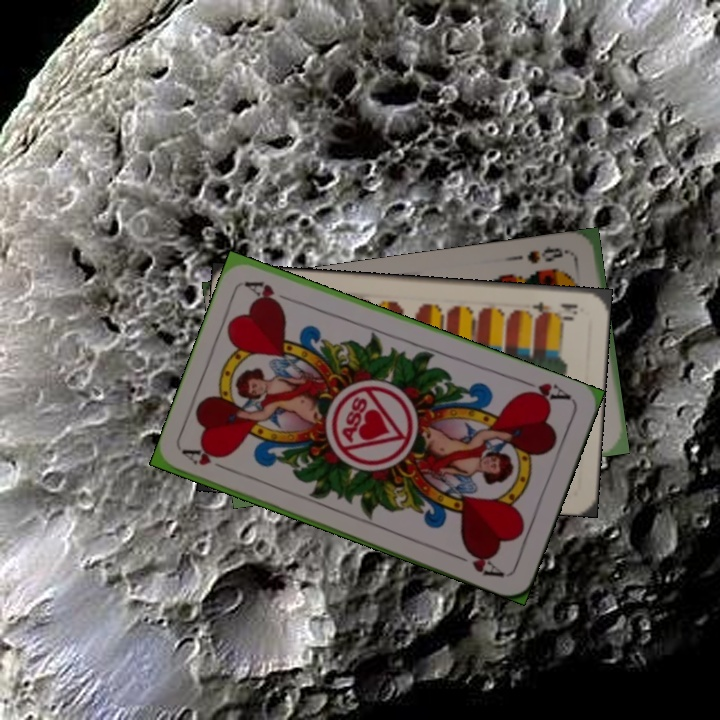E10: (528, 298, 581, 321)
HA: (516, 375, 574, 407), (180, 445, 237, 476)
S8: (523, 243, 576, 266)
